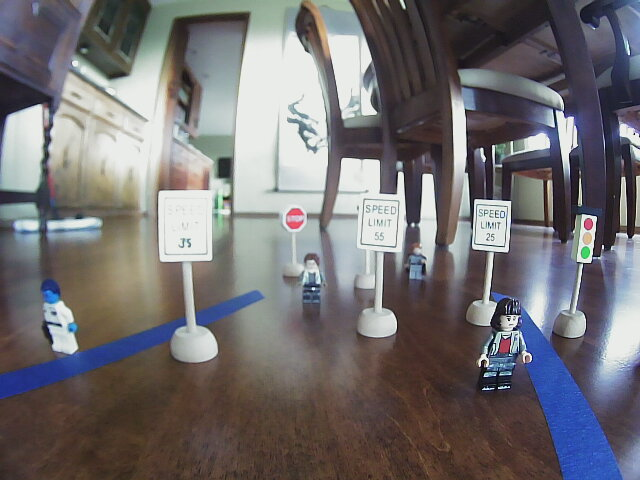SpeedLimit25: (474, 200, 508, 252)
SpeedLimit35: (156, 185, 217, 270)
SpeedLimit55: (363, 189, 397, 255)
StopSign: (281, 203, 311, 231)
TrafficLight: (573, 207, 598, 267)
person: (476, 293, 536, 394), (32, 276, 89, 360), (297, 252, 324, 313), (405, 239, 431, 291)
